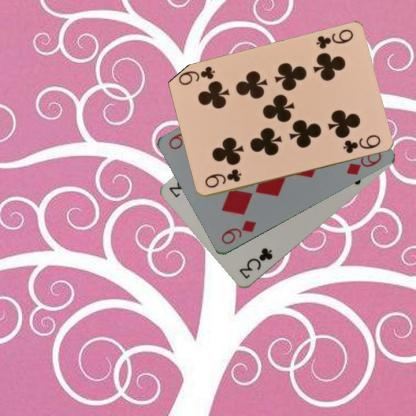3c: (236, 245, 274, 280)
9c: (313, 26, 354, 51), (202, 166, 242, 190)
9d: (218, 218, 258, 246)
